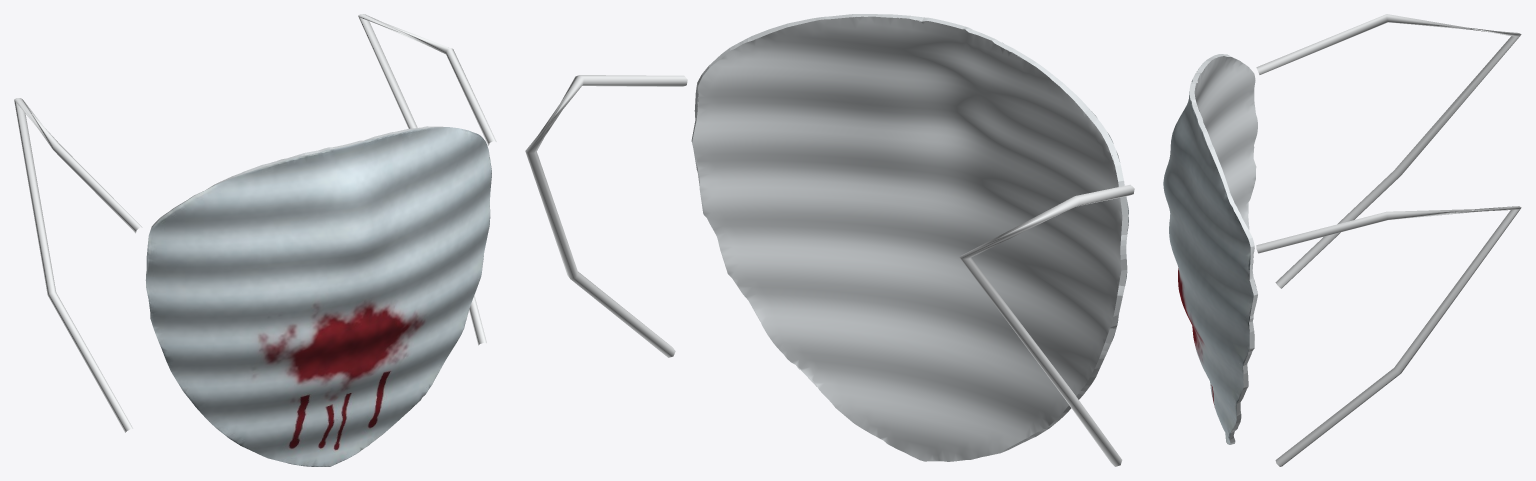
The model's file is 血のマスク_surgical.glb.
3 views of the same model, side by side, from view 1: azimuth 30°, elevation 25°; view 2: azimuth 150°, elevation 25°; view 3: azimuth 270°, elevation 25° (orthographic). The views are drawn at different scales.
Visible parts, largest first — view 1: surgical; view 2: surgical; view 3: surgical.
Part boxes in pixels (bbox=[...]): surgical: bbox=[14, 14, 496, 466]; surgical: bbox=[525, 14, 1134, 466]; surgical: bbox=[1163, 14, 1521, 466].
Size of the model in its own units: 0.1814 by 0.1449 by 0.1365.
2 materials, 1 textured.
